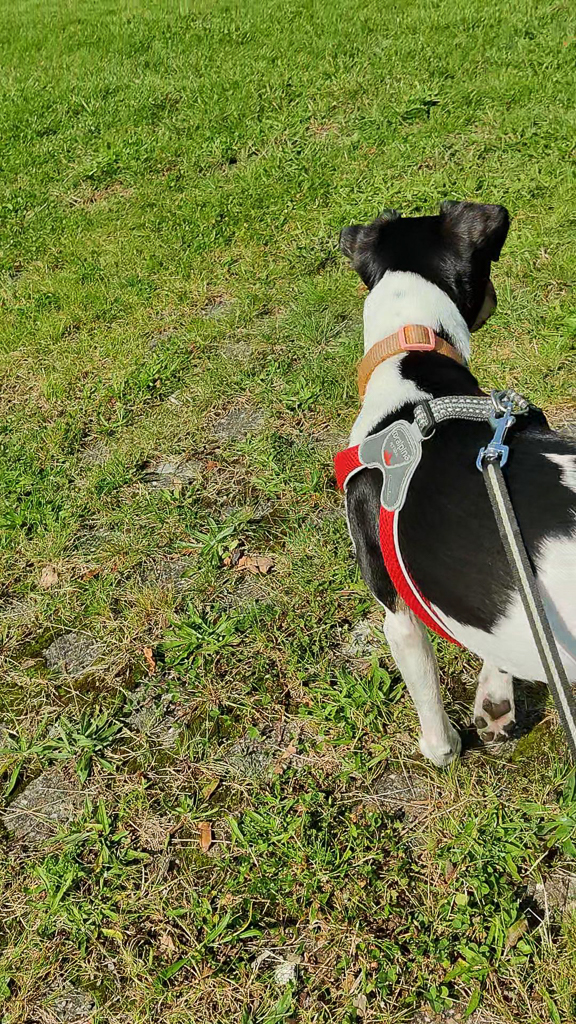Dog: (315, 182, 576, 788)
